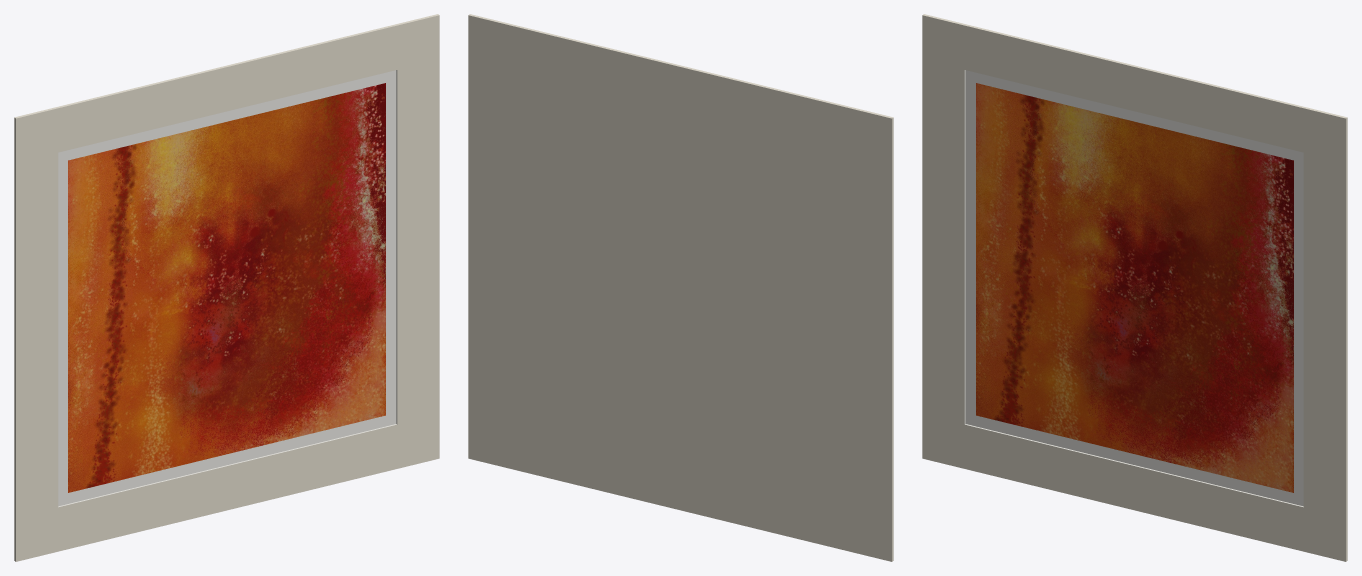
File: va294_moyen_passe-partout.glb
3 views of the same model, side by side, from view 1: azimuth 30°, elevation 25°; view 2: azimuth 150°, elevation 25°; view 3: azimuth 330°, elevation 25° (orthographic).
Visible parts, largest first — view 1: va294_moyen_passe-partout; view 2: va294_moyen_passe-partout; view 3: va294_moyen_passe-partout.
Boxes of the visible parts, <box> form: va294_moyen_passe-partout: <box>14,14,439,561</box>; va294_moyen_passe-partout: <box>468,14,893,561</box>; va294_moyen_passe-partout: <box>922,14,1347,561</box>.
Size of the model in its own units: 0.8 by 0.8 by 0.0055.
4 materials, 1 textured.
